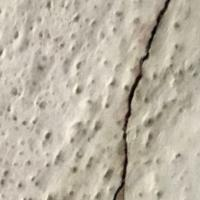crack: (108, 0, 181, 199)
